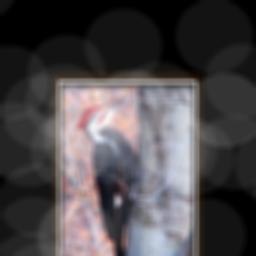Woodpecker: (74, 98, 146, 256)
